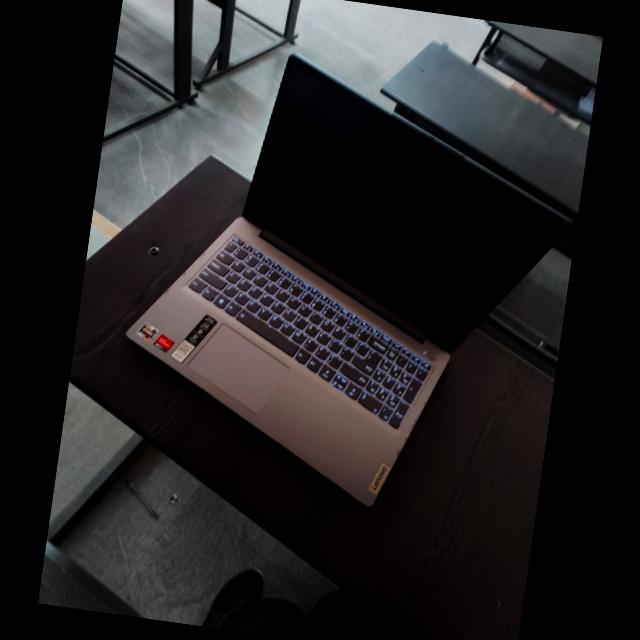laptop: (97, 18, 586, 524)
